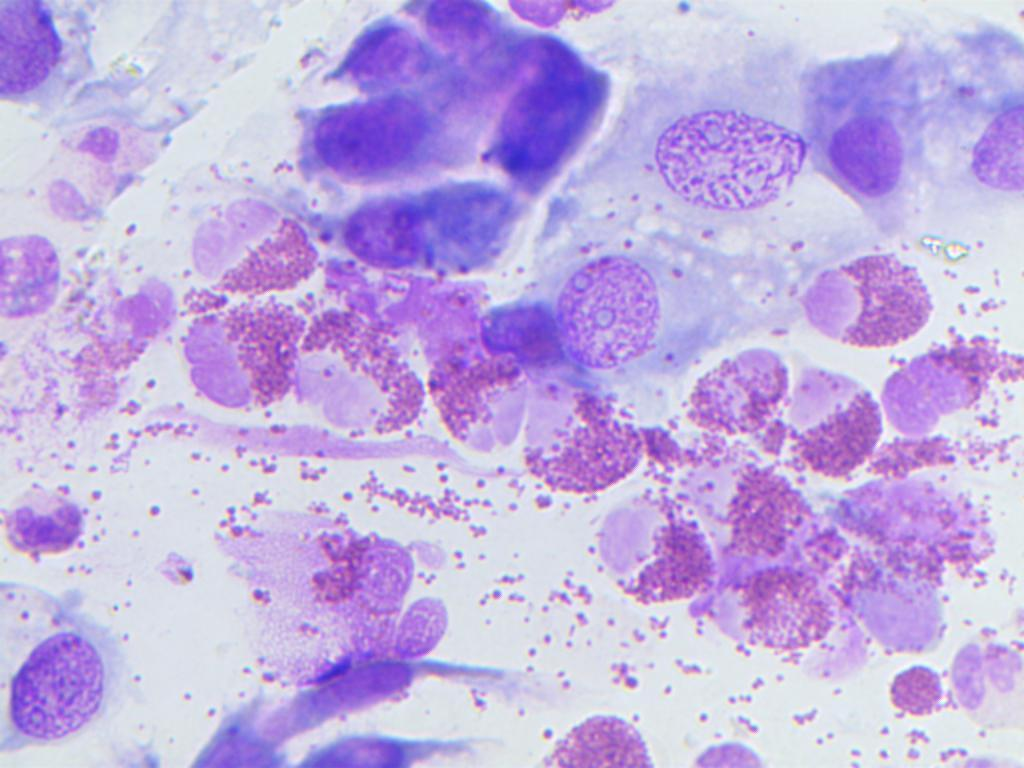eosinophil: (176, 475, 427, 608), (81, 248, 196, 433), (832, 473, 1002, 590), (783, 224, 940, 350), (514, 386, 661, 494), (185, 190, 326, 300), (878, 328, 1005, 448), (302, 318, 423, 442), (692, 456, 829, 562), (171, 308, 300, 418), (428, 338, 527, 476), (600, 494, 707, 620), (532, 681, 663, 768), (706, 564, 835, 652), (792, 364, 884, 472), (689, 344, 786, 434), (0, 227, 70, 351), (880, 651, 953, 720)
epithelial: (623, 83, 808, 212), (485, 29, 620, 198), (554, 235, 675, 379), (814, 86, 926, 225), (287, 88, 431, 195), (311, 21, 461, 111), (963, 63, 1024, 235), (0, 0, 83, 104), (340, 182, 431, 272), (470, 293, 562, 382)
goblet_cell: (0, 569, 114, 759)
neutrophil: (37, 98, 135, 216), (0, 466, 113, 560), (940, 631, 1024, 729)
